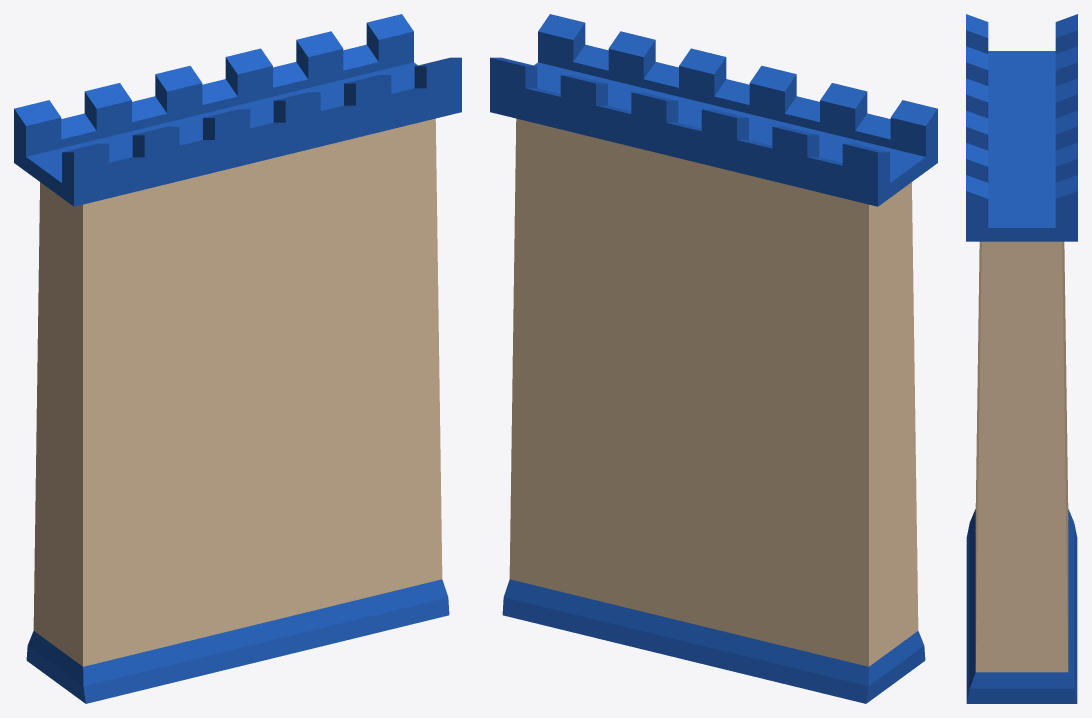
The model's file is Castle Walls_Textured.fbx.
3 renders of one model, left to right at view 1: azimuth 30°, elevation 25°; view 2: azimuth 150°, elevation 25°; view 3: azimuth 270°, elevation 25°, orthographic. The views are drawn at different scales.
Visible parts, largest first — view 1: Wall; view 2: Wall; view 3: Wall.
Part boxes in pixels (x1=…): Wall: x1=14, y1=14, x2=461, y2=703; Wall: x1=490, y1=14, x2=937, y2=703; Wall: x1=966, y1=14, x2=1077, y2=703.
Size of the model in its own units: 276 by 377 by 73.74.
